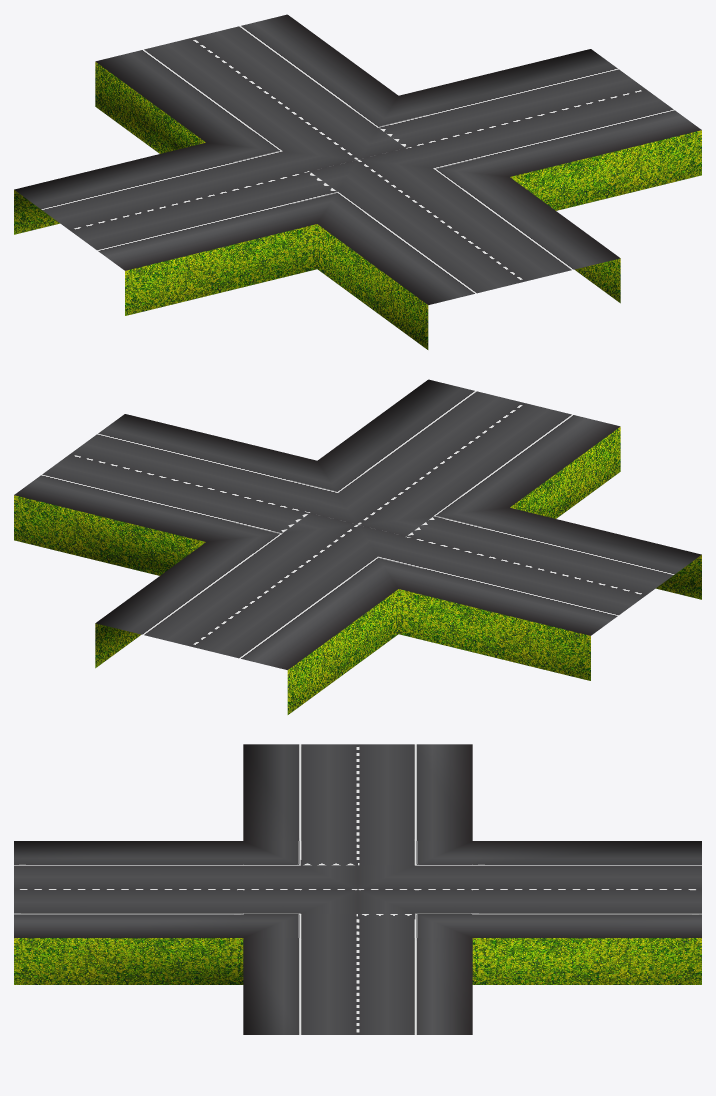
Rendered from kruispunt_weg_1_zonder_vangrail.fbx.
3 renders of one model, top to bottom at view 1: azimuth 30°, elevation 25°; view 2: azimuth 150°, elevation 25°; view 3: azimuth 270°, elevation 25°, orthographic. The views are drawn at different scales.
Visible parts, largest first — view 1: kruispunt_weg_1_zonder_vangrail; view 2: kruispunt_weg_1_zonder_vangrail; view 3: kruispunt_weg_1_zonder_vangrail.
Part boxes in pixels (x1,y1,x2,y2): kruispunt_weg_1_zonder_vangrail: (14, 14, 701, 349); kruispunt_weg_1_zonder_vangrail: (14, 379, 701, 714); kruispunt_weg_1_zonder_vangrail: (14, 744, 701, 1034).
Size of the model in its own units: 3000 by 225 by 3000.
